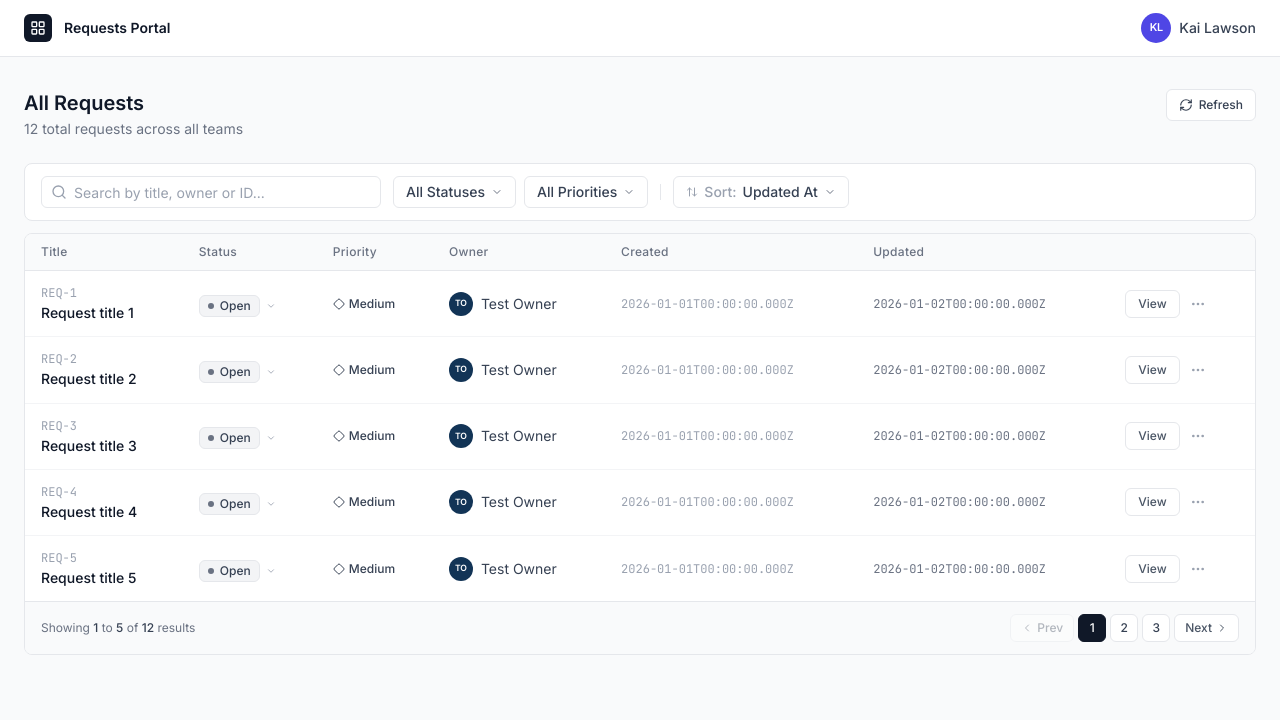
RequestsListPage row actions › changes a status inline and confirms with a toast
Expected: the text "Request title 1" is shown, x1=41 y1=304 x2=134 y2=321
What coordinates should you click on to do the following:
click the button named "Change status"
I would click on:
 (237, 306)
Its box is x1=199 y1=295 x2=276 y2=317.
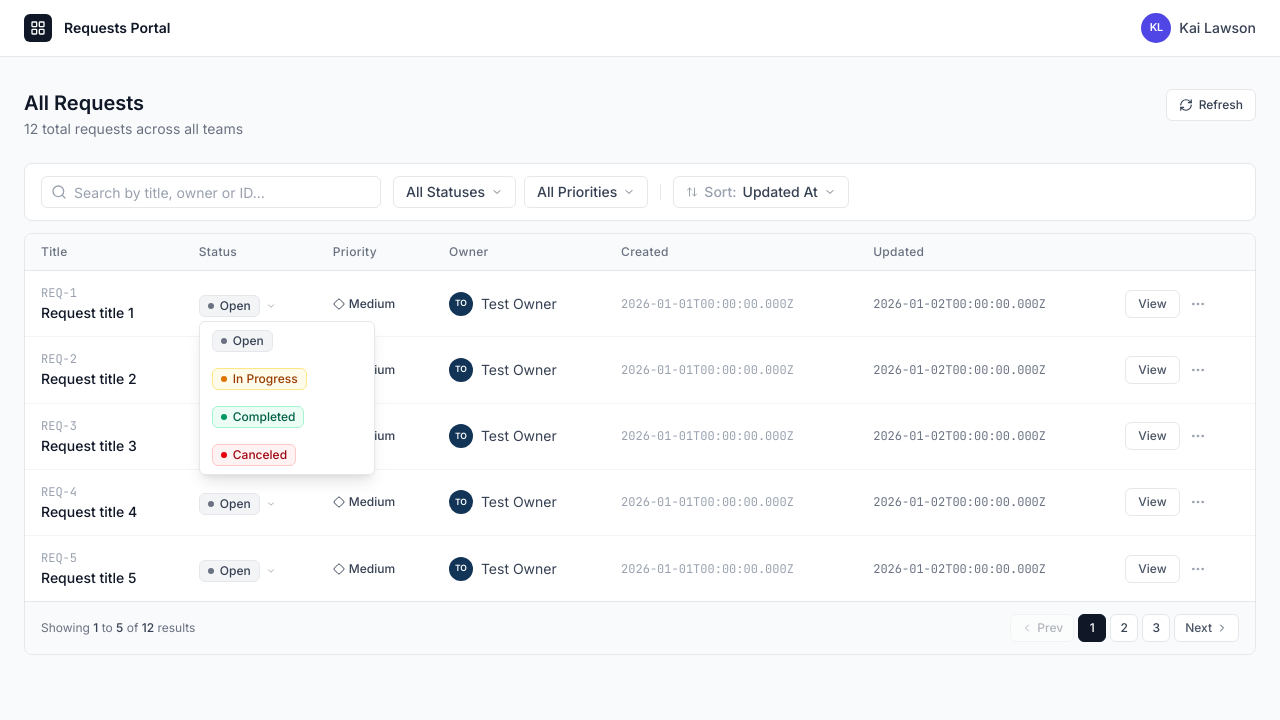
What coordinates should you click on to do the following:
click the option "Completed"
I would click on:
 (287, 417)
Its box is x1=200 y1=398 x2=374 y2=436.
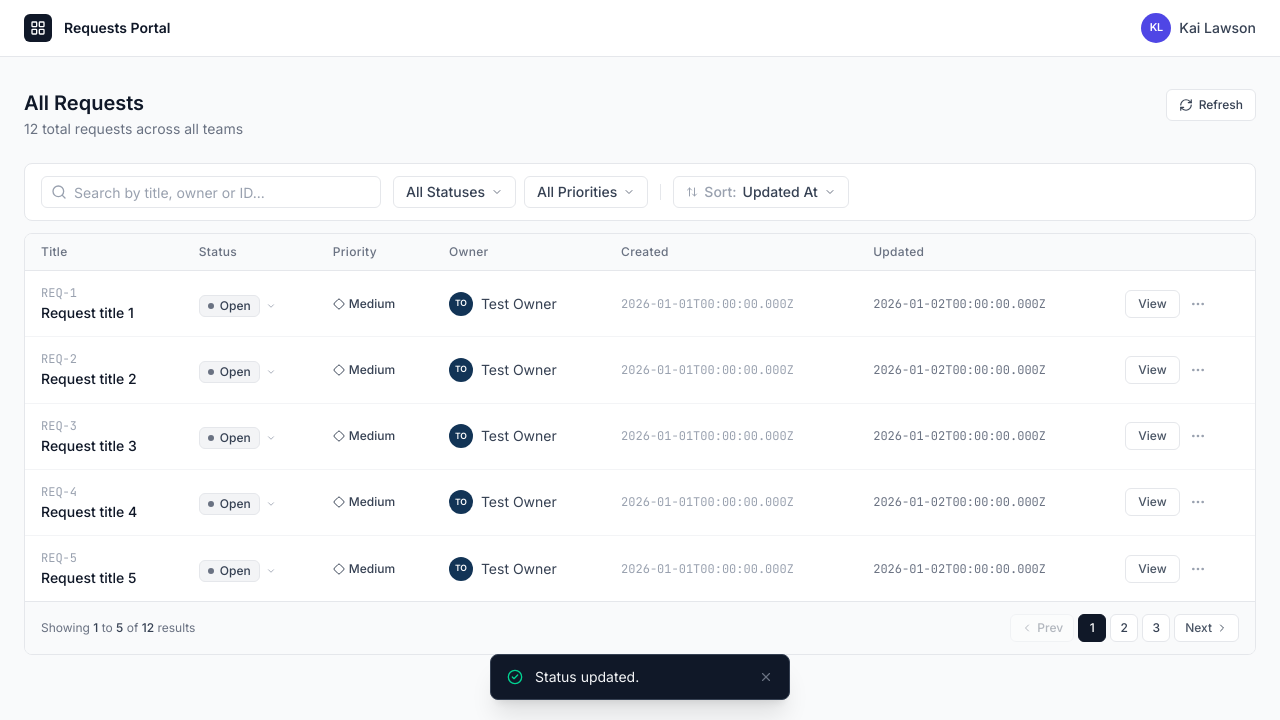
Now the text "Status updated." is shown, box x1=535 y1=668 x2=639 y2=685
